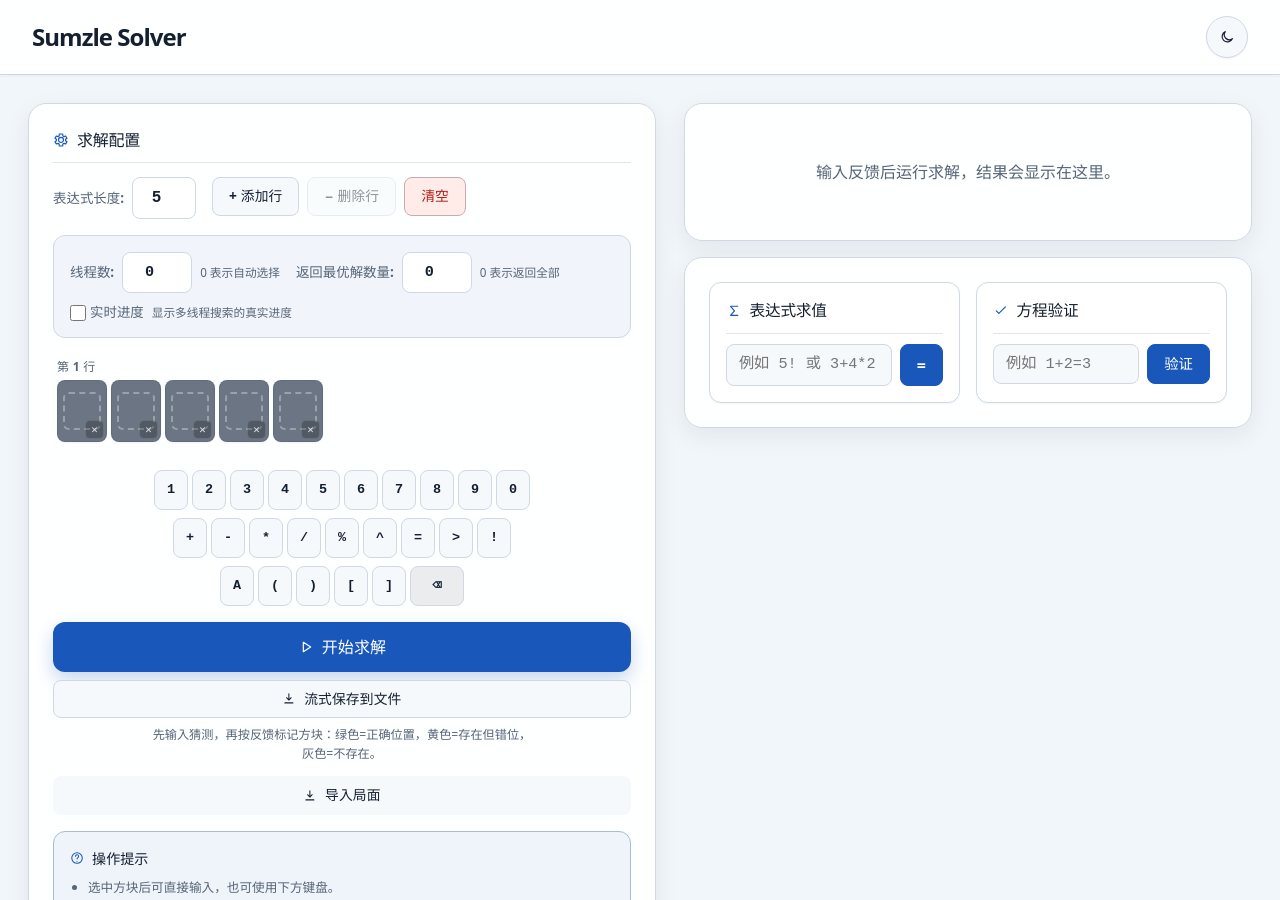
Test: App › surfaces an error for zero and negative lengths and recovers on blur
This screenshot has width=1280, height=900.
Clear the number field labelled "表达式长度:": (164, 198) [132,177,196,219]
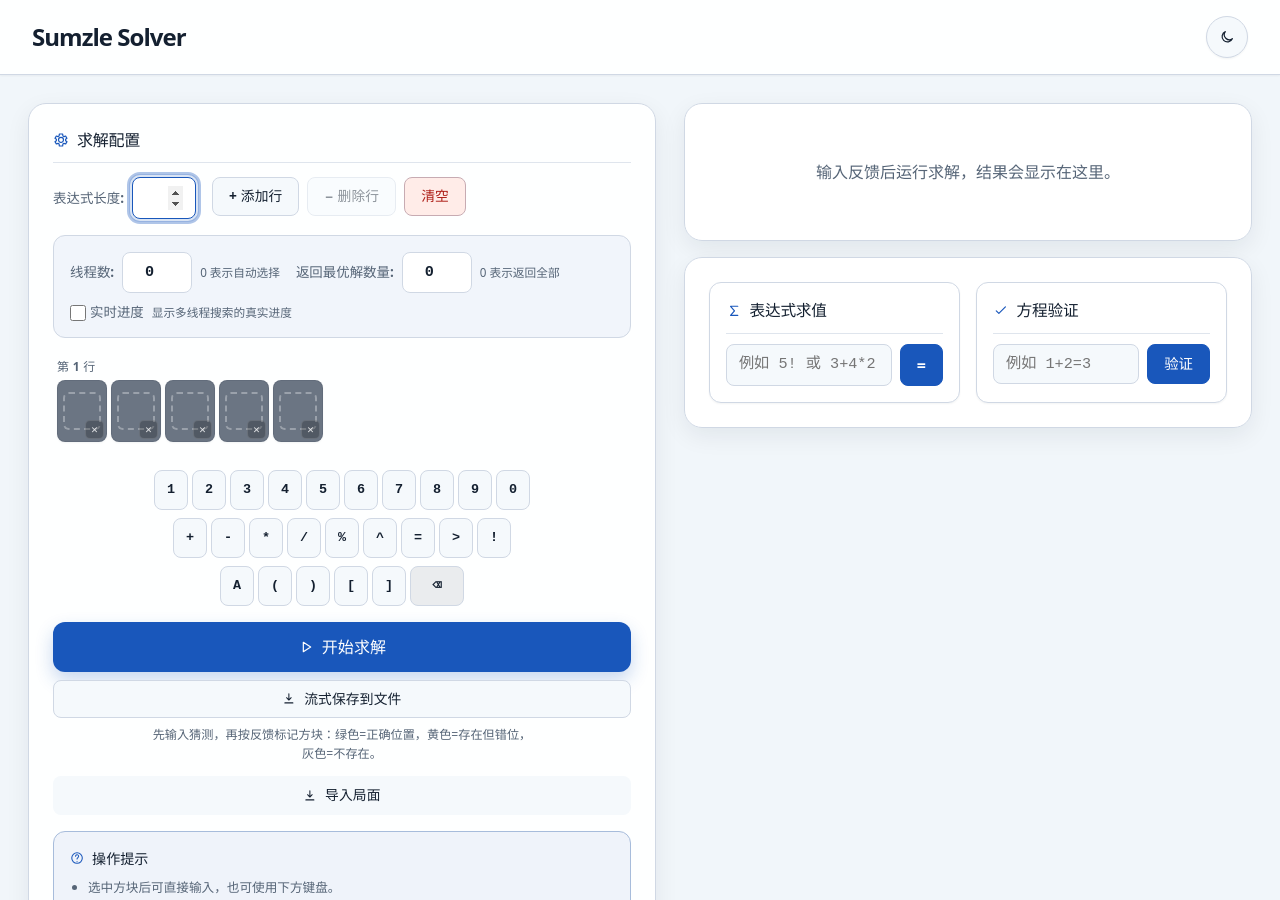
Type keys "0"
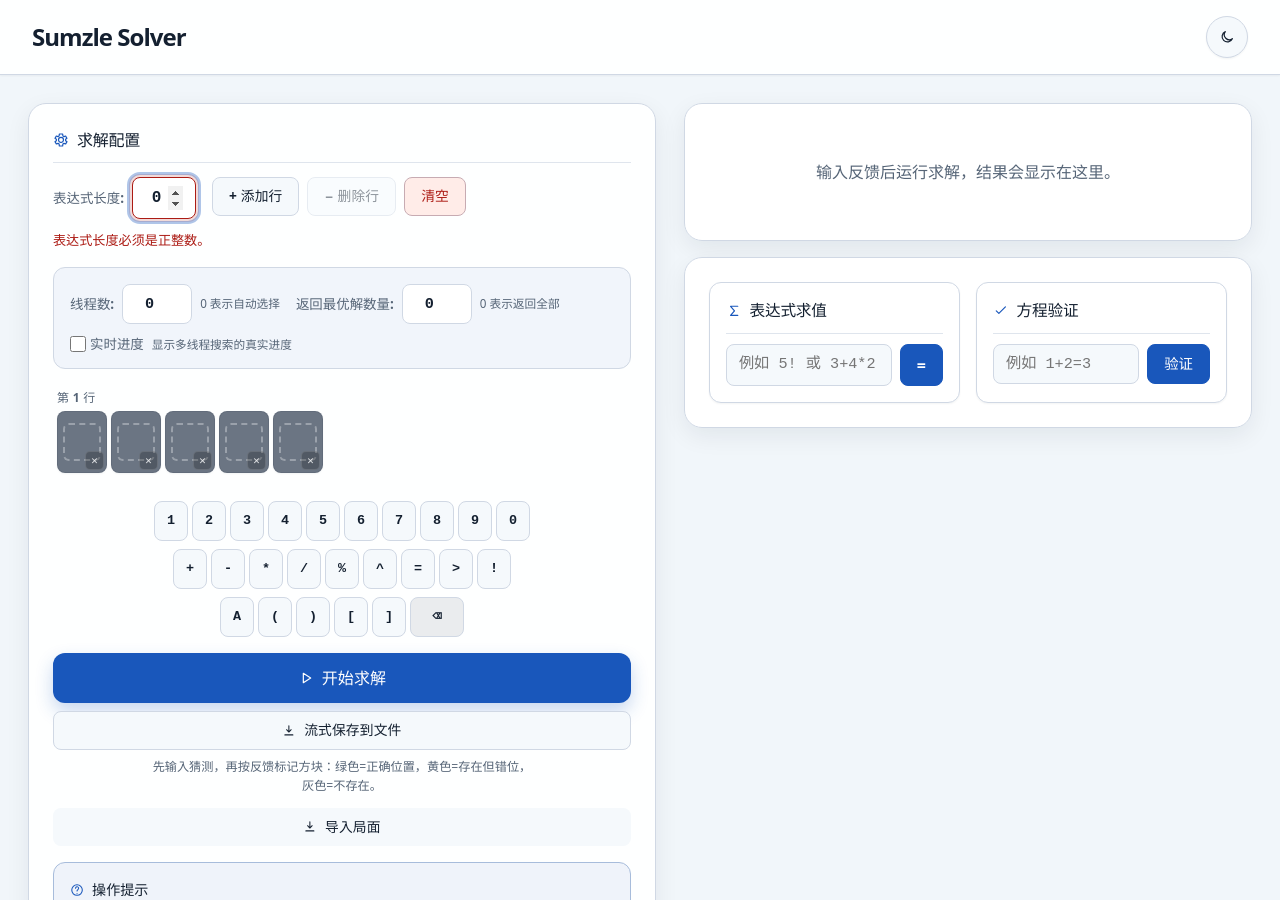
Expected: the number of fields named "输入方块字符" is 5, [63,424,101,462]; [117,424,155,462]; [171,424,209,462]; [225,424,263,462]; [279,424,317,462]
Expected: the number field labelled "表达式长度:" holds "0"
Expected: the message "表达式长度必须是正整数。" is shown, [53,231,210,249]
# Same for a negative value.
Clear the number field labelled "表达式长度:": (164, 198) [132,177,196,219]
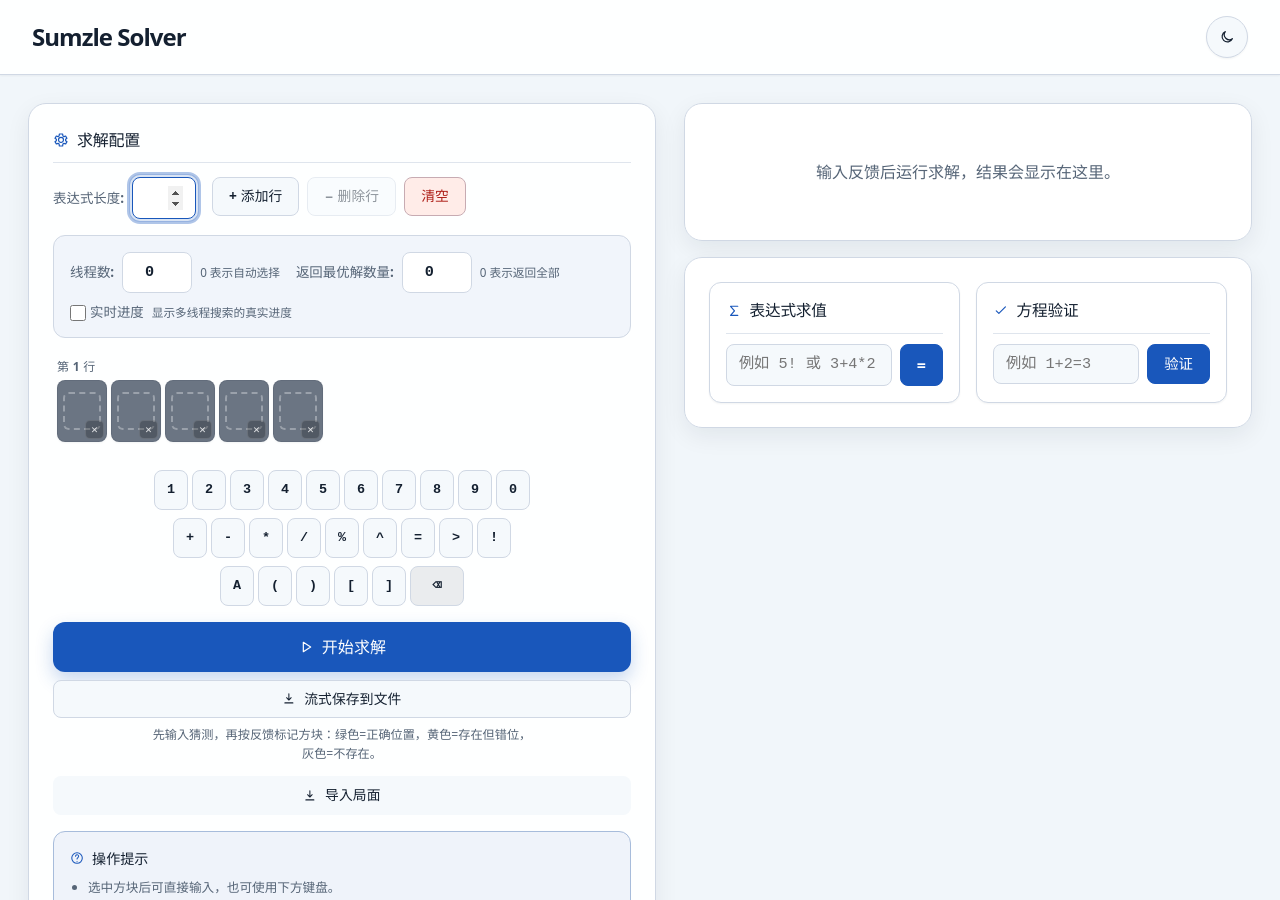
Type keys "-5"
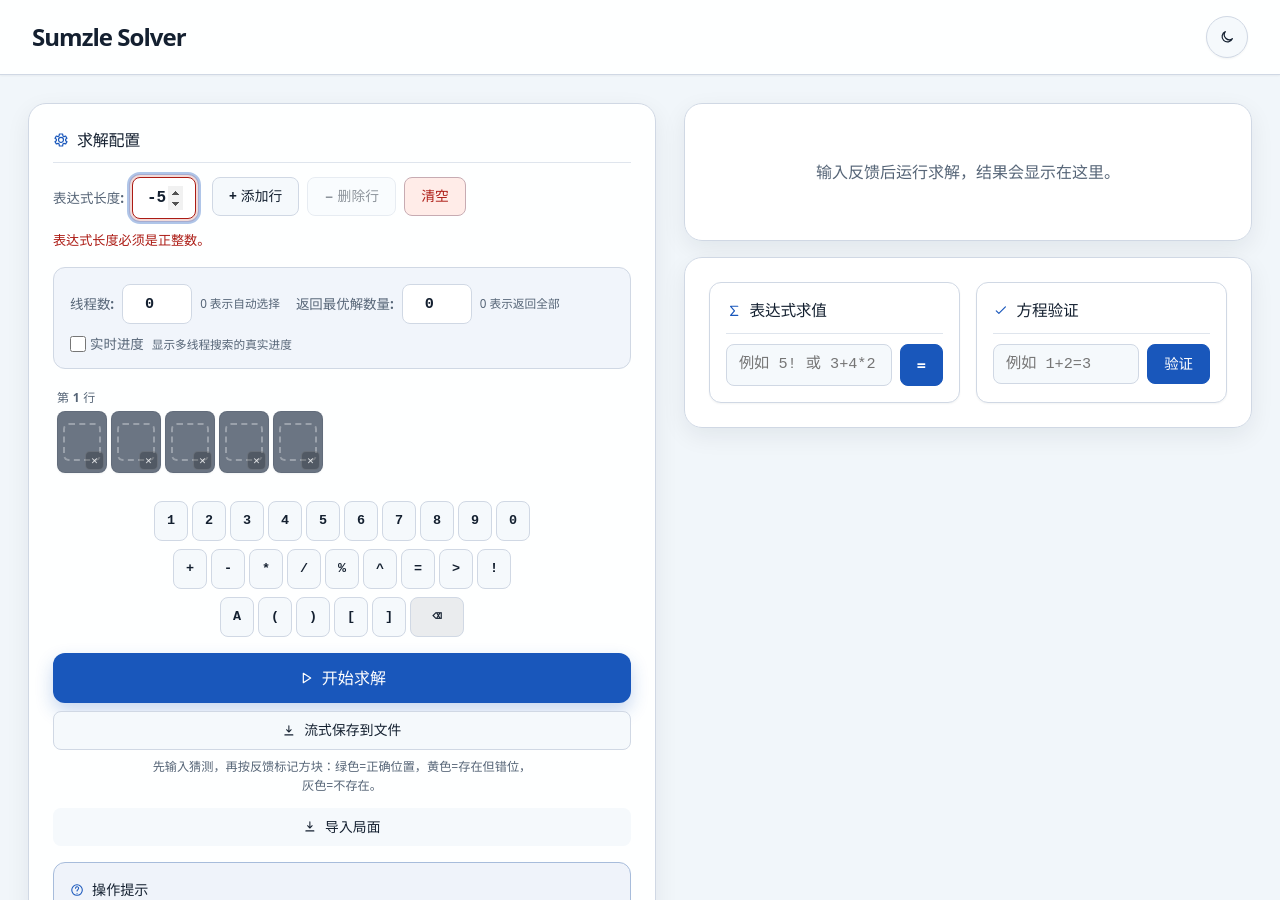
Expected: the number of fields named "输入方块字符" is 5, [63,424,101,462]; [117,424,155,462]; [171,424,209,462]; [225,424,263,462]; [279,424,317,462]
Expected: the number field labelled "表达式长度:" holds "-5", [132,177,196,219]
Expected: the message "表达式长度必须是正整数。" is shown, [53,231,210,249]
# Blur normalizes to MIN_LENGTH (3) via clampLength.
Press Tab
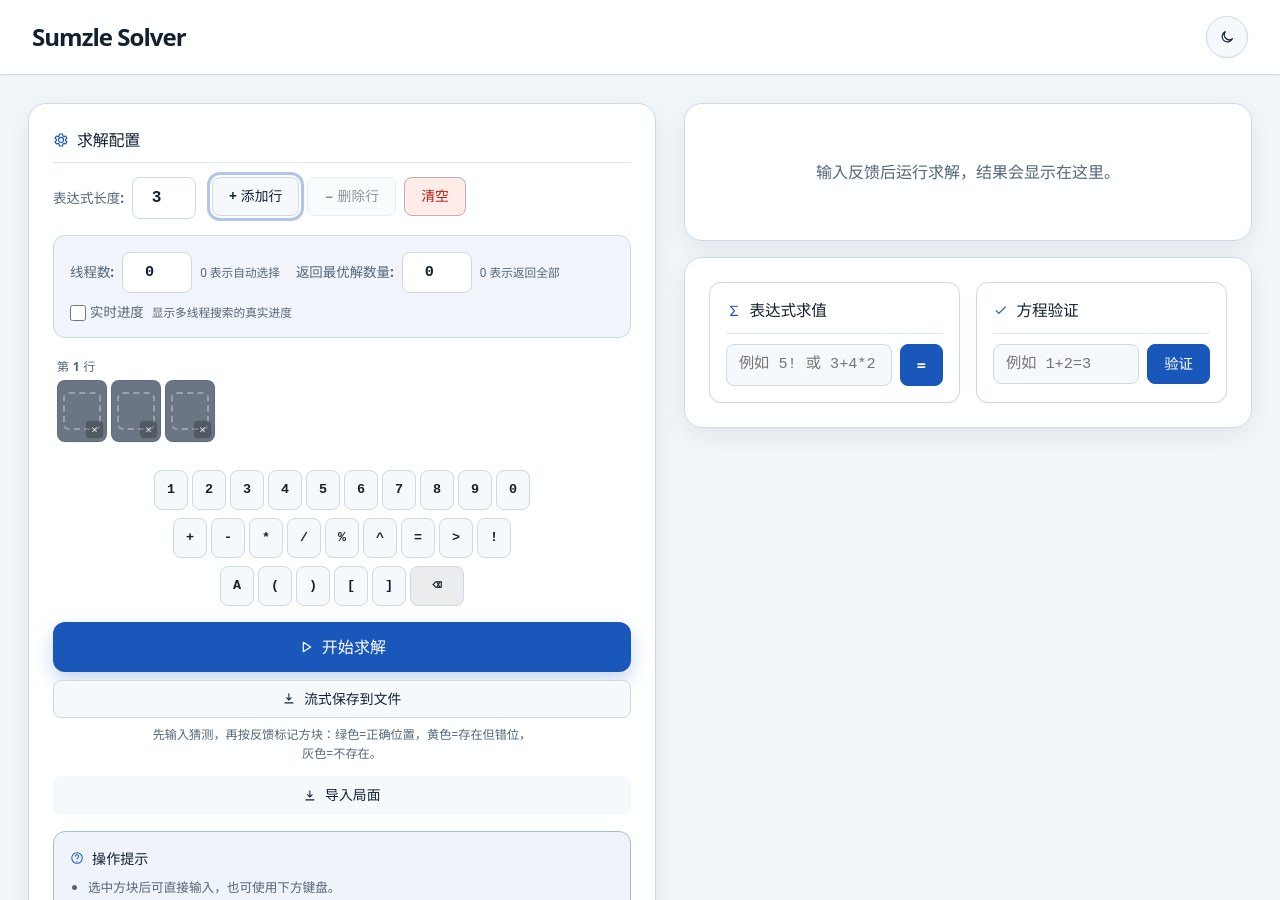
Expected: the number field labelled "表达式长度:" holds "3", [132,177,196,219]
Expected: the message "表达式长度必须是正整数。" is gone
Expected: the number of fields named "输入方块字符" is 3, [63,392,101,430]; [117,392,155,430]; [171,392,209,430]
